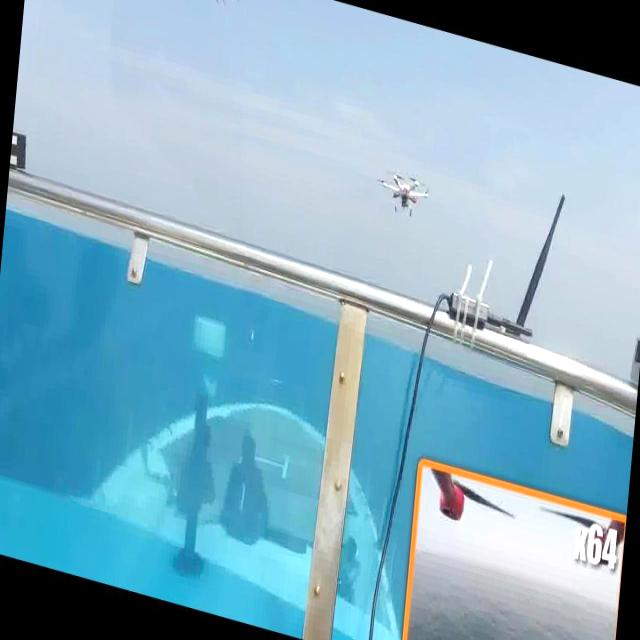drone: (374, 161, 434, 227), (200, 0, 242, 12)
